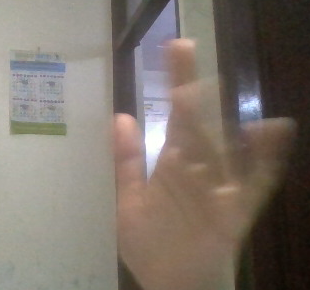move: (112, 37, 310, 287)
